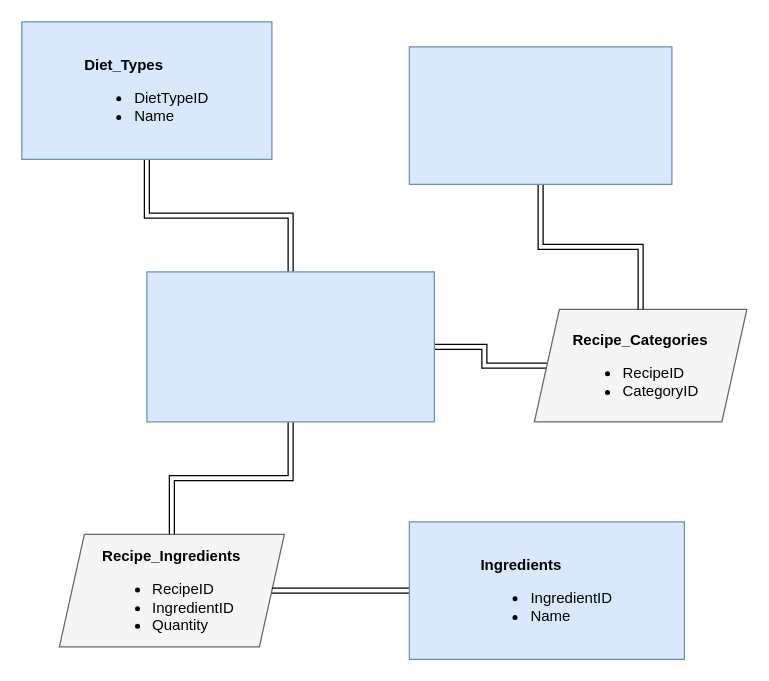
Some shapes in this 769 by 681 pixel diagram are drawn without their labels. The shapes that lost their labels are listed below. From the top down, each one's centre as x and y in pixels, then its label:
the point at 540,115: Categories CategoryID Name
the point at 290,346: Recipes RecipeID Name Steps DietTypeID
